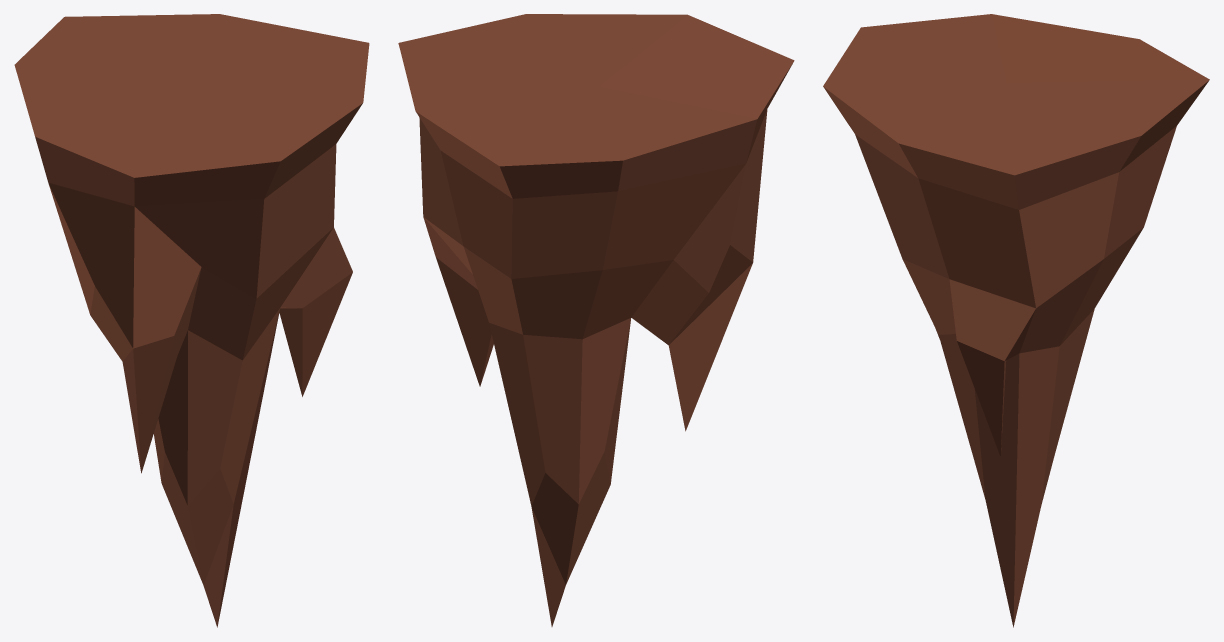
The model's file is stalactiet.fbx.
3 views of the same model, side by side, from view 1: azimuth 30°, elevation 25°; view 2: azimuth 150°, elevation 25°; view 3: azimuth 270°, elevation 25° (orthographic). The views are drawn at different scales.
Visible parts, largest first — view 1: Cube.001; view 2: Cube.001; view 3: Cube.001.
Boxes of the visible parts, left/top/right/bottom form: Cube.001: left=14, top=14, right=369, bottom=627; Cube.001: left=398, top=14, right=794, bottom=626; Cube.001: left=823, top=14, right=1209, bottom=627.
Bounding box in the file's own units: 292 × 441 × 295.
